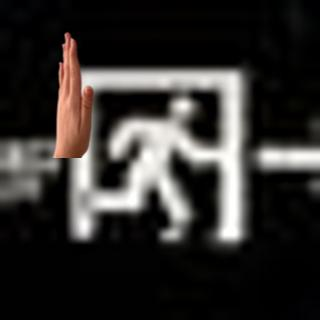Right: (49, 32, 103, 160)
